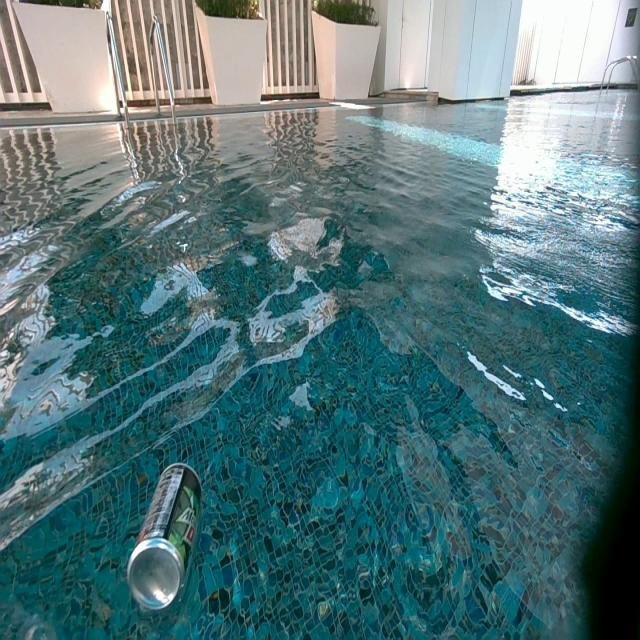Cans: (130, 461, 204, 612)
